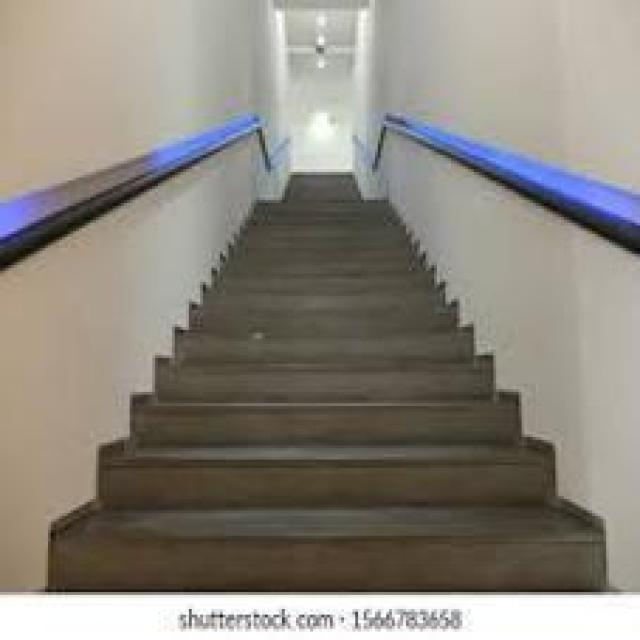upstair: (77, 319, 579, 565)
